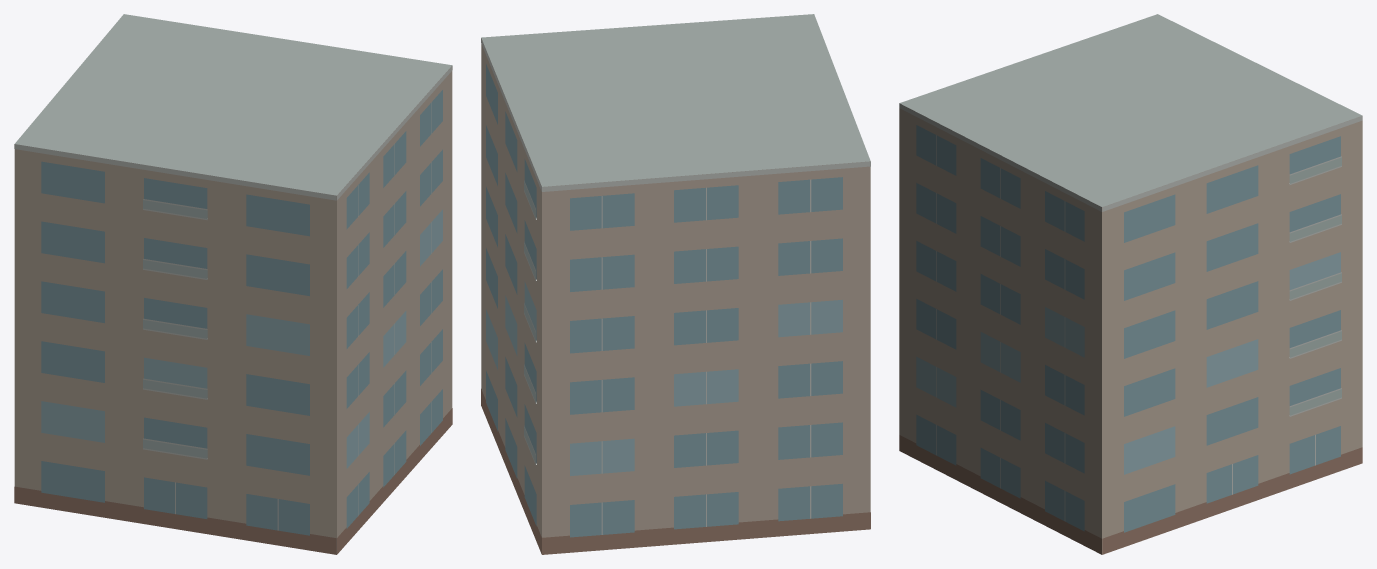
File: survey-upis-32943841.glb
The picture shows the model from 3 angles, left to right: view 1: azimuth 30°, elevation 25°; view 2: azimuth 150°, elevation 25°; view 3: azimuth 270°, elevation 25°; orthographic projection. The views are drawn at different scales.
Visible parts, largest first — view 1: survey-upis-32943841.tmp; view 2: survey-upis-32943841.tmp; view 3: survey-upis-32943841.tmp.
Boxes of the visible parts, x1,y1,x2,y2 form: survey-upis-32943841.tmp: (14, 14, 452, 554); survey-upis-32943841.tmp: (481, 14, 870, 554); survey-upis-32943841.tmp: (899, 14, 1362, 554).
Size of the model in its own units: 20.75 by 17.4 by 21.02.
